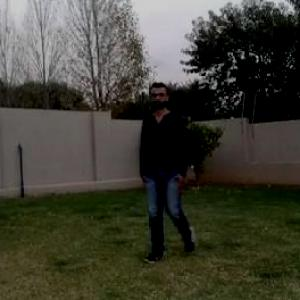follow: (142, 85, 184, 250)
